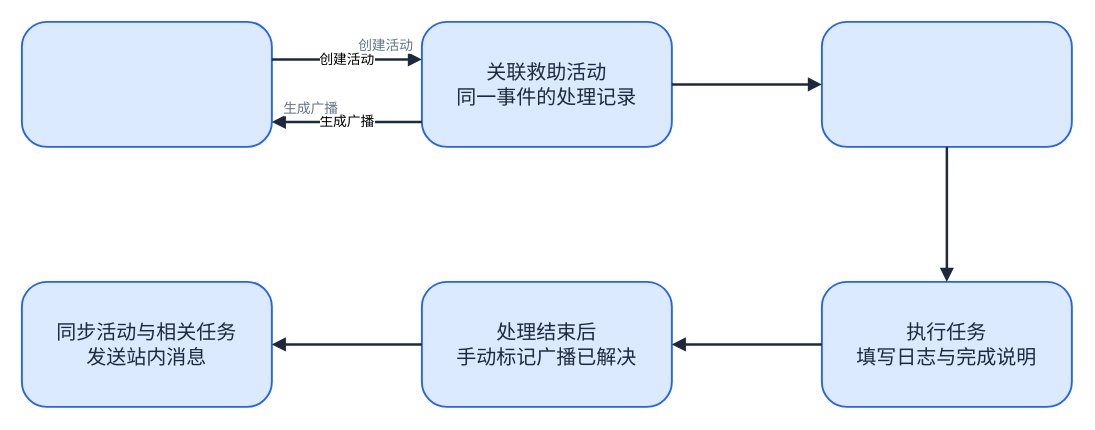
Some shapes in this 1095 by 430 pixel diagram are drawn without their labels. Here are the shapes that lost their labels. From the top down, the centre of each, then its label:
At point 146,83: "救助类广场广播 公开现场信息".
At point 946,83: "组织成员接收任务 管理员分配 / 成员申领".
